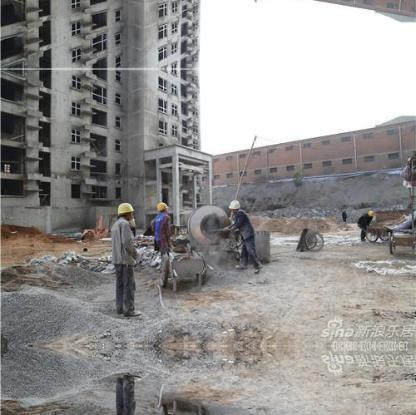helmet: (111, 197, 137, 218), (227, 194, 247, 217), (155, 197, 169, 215), (366, 206, 377, 219)
